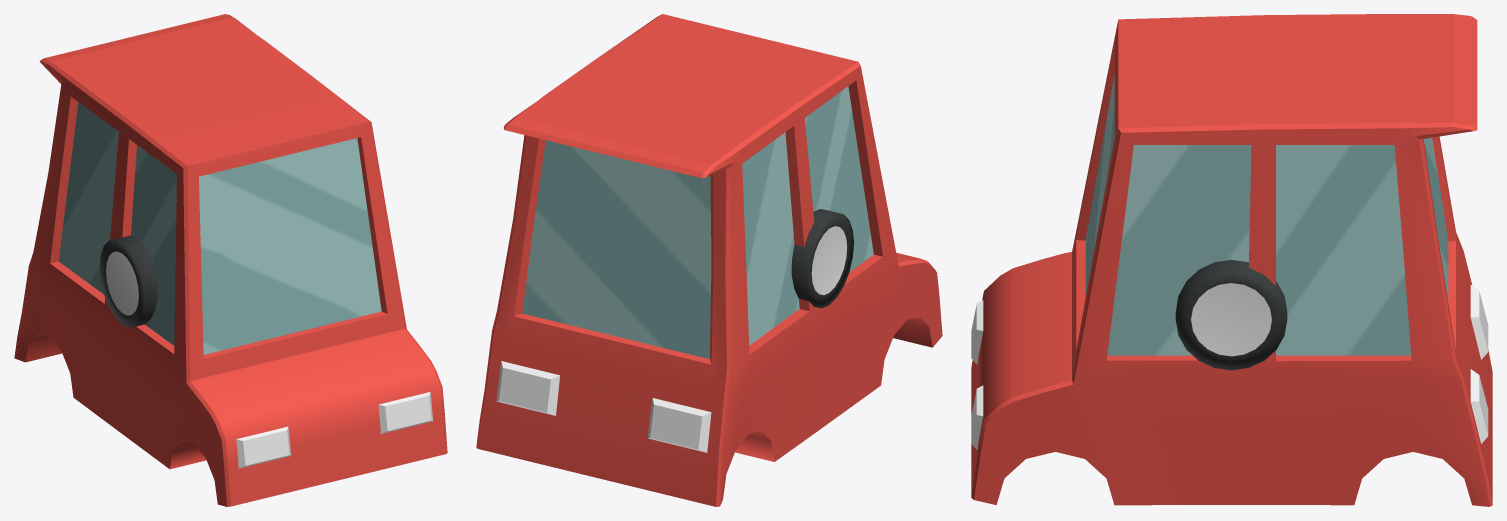
The model's file is car_6_R.fbx.
3 views of the same model, side by side, from view 1: azimuth 30°, elevation 25°; view 2: azimuth 150°, elevation 25°; view 3: azimuth 270°, elevation 25° (orthographic). The views are drawn at different scales.
Visible parts, largest first — view 1: car_6_chasis_R, car_6_right_wheel_R, car_6_back_wheel_R; view 2: car_6_chasis_R, car_6_right_wheel_R; view 3: car_6_chasis_R, car_6_back_wheel_R, car_6_left_wheel_R.
Boxes of the visible parts, x1,y1,x2,y2 form: car_6_chasis_R: [14, 14, 447, 506]; car_6_right_wheel_R: [99, 235, 157, 327]; car_6_back_wheel_R: [113, 239, 157, 326]; car_6_chasis_R: [476, 14, 942, 506]; car_6_right_wheel_R: [791, 209, 853, 308]; car_6_chasis_R: [971, 14, 1492, 506]; car_6_back_wheel_R: [1175, 261, 1287, 370]; car_6_left_wheel_R: [1175, 259, 1287, 315].
Size of the model in its own units: 98.97 by 126 by 161.
